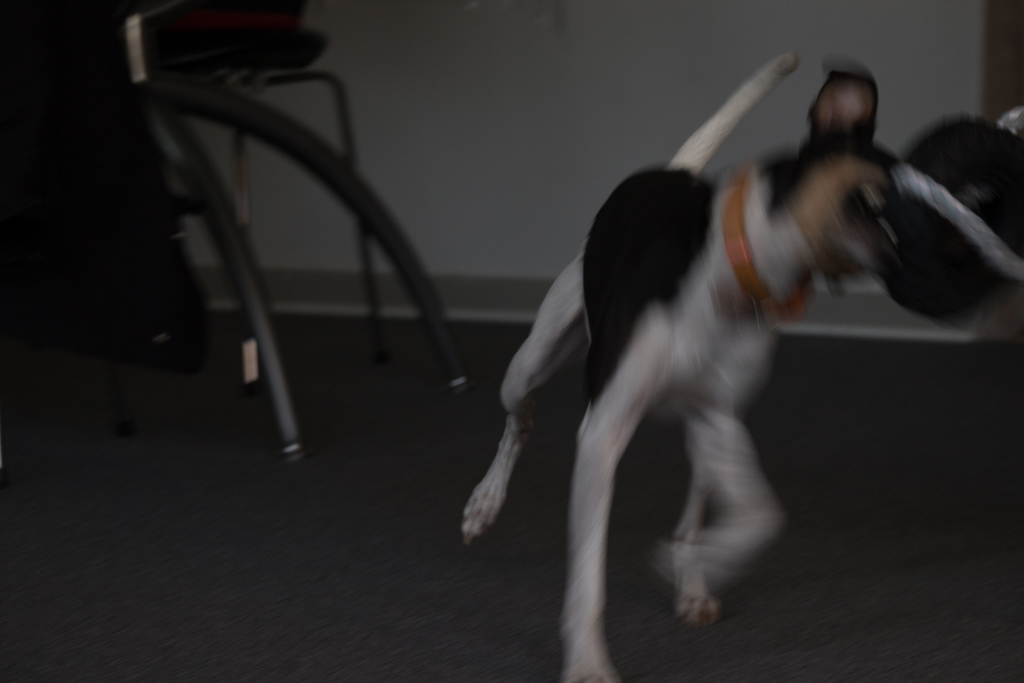Dog: (448, 40, 939, 683)
